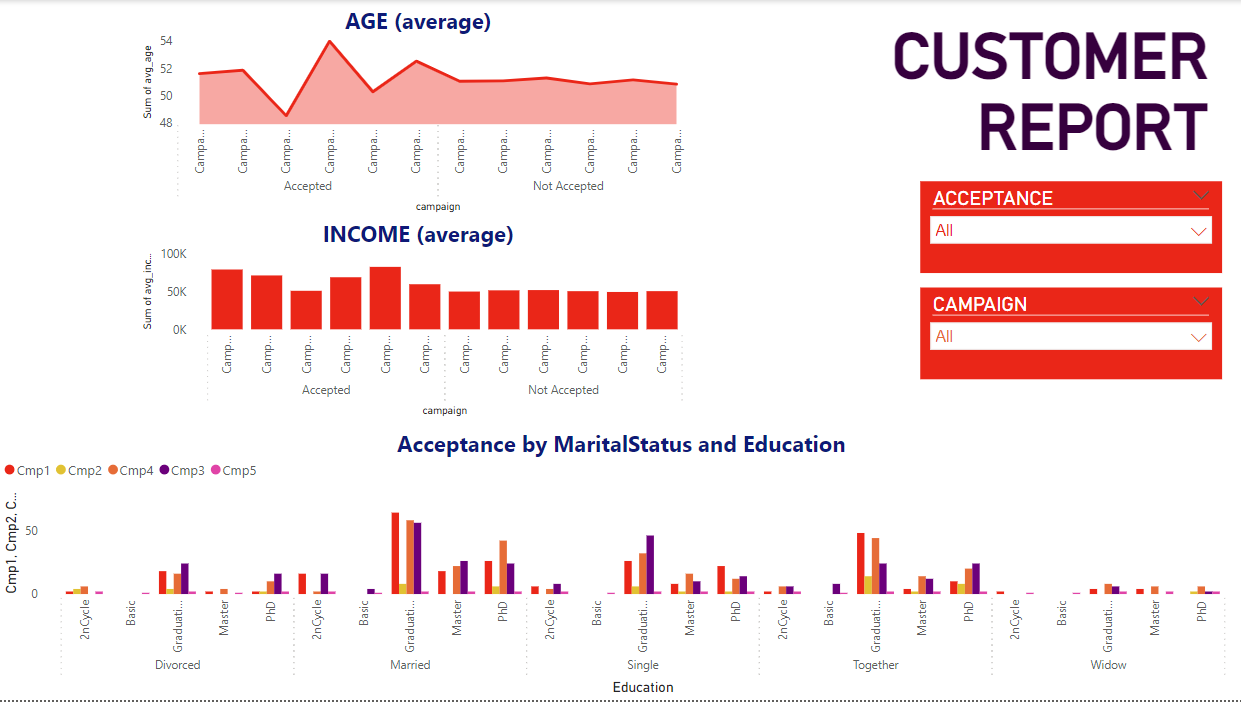

What the dashboard file says about the page in this screenshot:
{"tool":"powerbi","page":{"name":"Customer","canvas":[1280,720],"ordinal":1},"visuals":[{"type":"columnChart","title":"INCOME (average)","fields":{"Category":["public ifood_table_campaign_agg (2).acceptance","public ifood_table_campaign_agg (2).campaign"],"Y":["Sum(public ifood_table_campaign_agg (2).avg_income)"]},"box":[142.9,223.1,577.1,210],"z":0},{"type":"areaChart","title":"AGE (average)","fields":{"Category":["public ifood_table_campaign_agg (2).acceptance","public ifood_table_campaign_agg (2).campaign"],"Y":["Sum(public ifood_table_campaign_agg (2).avg_age)"]},"box":[142.9,4.6,577.1,218.6],"z":1000},{"type":"textbox","box":[895.7,14.3,352.9,165.7],"z":2000},{"type":"slicer","fields":{"Values":["public ifood_table_campaign_agg (2).acceptance"]},"box":[947.1,186.1,310,94.3],"z":3000},{"type":"slicer","fields":{"Values":["public ifood_table_campaign_agg (2).campaign"]},"box":[947.1,296.1,310,94.3],"z":4000},{"type":"clusteredColumnChart","title":"Acceptance by MaritalStatus and Education","fields":{"Y":["Sum(public ifood_table_silver.AcceptedCmp1)","Sum(public ifood_table_silver.AcceptedCmp2)","Sum(public ifood_table_silver.AcceptedCmp4)","Sum(public ifood_table_silver.AcceptedCmp3)","Count(public ifood_table_silver.AcceptedCmp5)"],"Category":["public ifood_table_silver.MaritalStatus","public ifood_table_silver.Education"]},"box":[0,440,1280,280],"z":5000}]}

Visuals, with their boxes in screenshot pixels (x1, y1, x2, y2), scaled from the page's 1280x720 canvas onto the 1241x702 screenshot:
"INCOME (average)" columnChart: (left=139, top=218, right=698, bottom=422)
"AGE (average)" areaChart: (left=139, top=4, right=698, bottom=218)
textbox: (left=868, top=14, right=1211, bottom=176)
slicer - public ifood_table_campaign_agg (2).acceptance: (left=918, top=181, right=1219, bottom=273)
slicer - public ifood_table_campaign_agg (2).campaign: (left=918, top=289, right=1219, bottom=381)
"Acceptance by MaritalStatus and Education" clusteredColumnChart: (left=0, top=429, right=1240, bottom=701)
